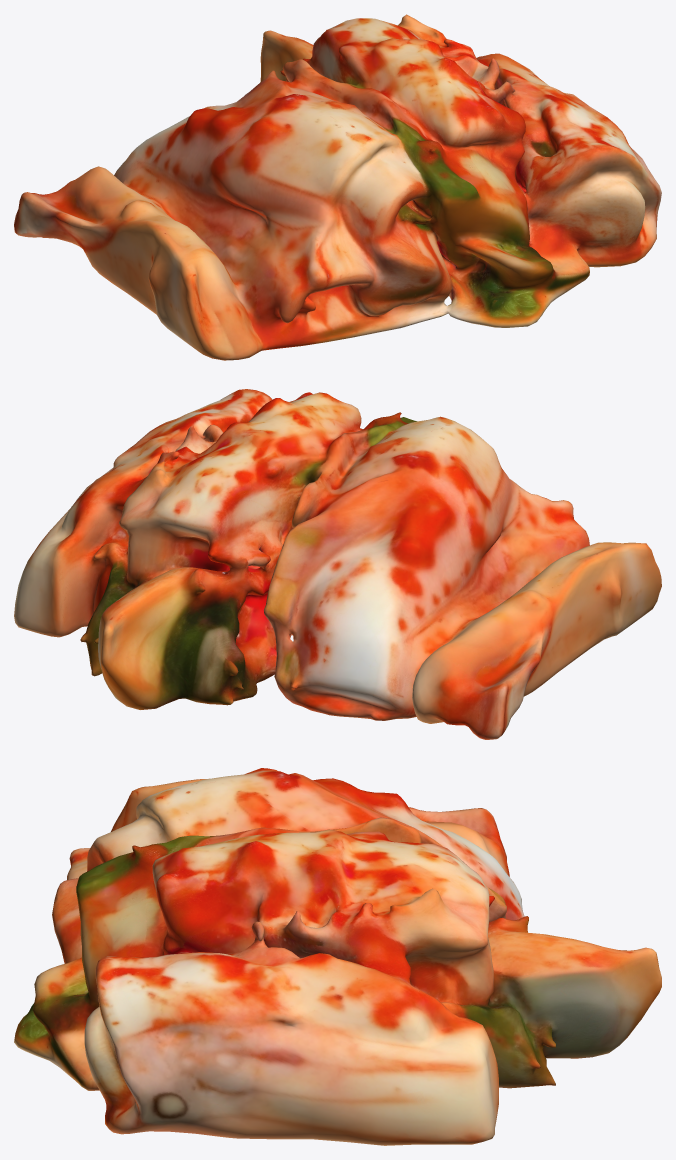
The model's file is kimchi.glb.
The picture shows the model from 3 angles, top to bottom: view 1: azimuth 30°, elevation 25°; view 2: azimuth 150°, elevation 25°; view 3: azimuth 270°, elevation 25°; orthographic projection. The views are drawn at different scales.
Visible parts, largest first — view 1: Object_5; view 2: Object_5; view 3: Object_5.
Part boxes in pixels (x1,y1,x2,y2): Object_5: [14, 14, 661, 360]; Object_5: [14, 389, 661, 739]; Object_5: [14, 768, 661, 1145].
Bounding box in the file's own units: 1.91 × 0.7006 × 1.87.
Materials: 1 (1 with a texture image).
